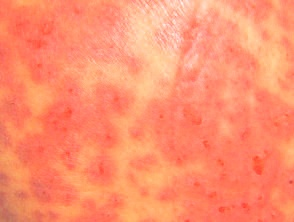SJS-TEN: (0, 0, 291, 222)
